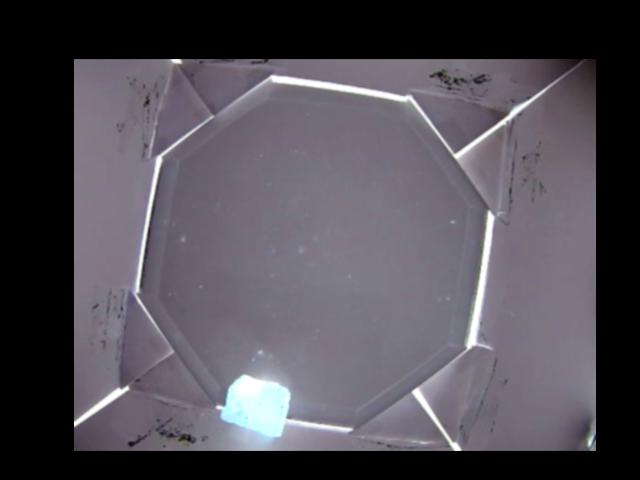Brisk: (221, 374, 287, 436)
